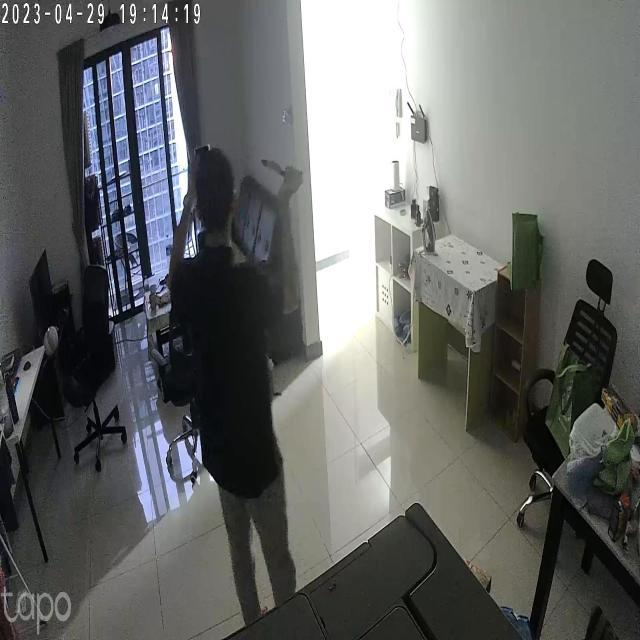Knife: (258, 143, 306, 190)
